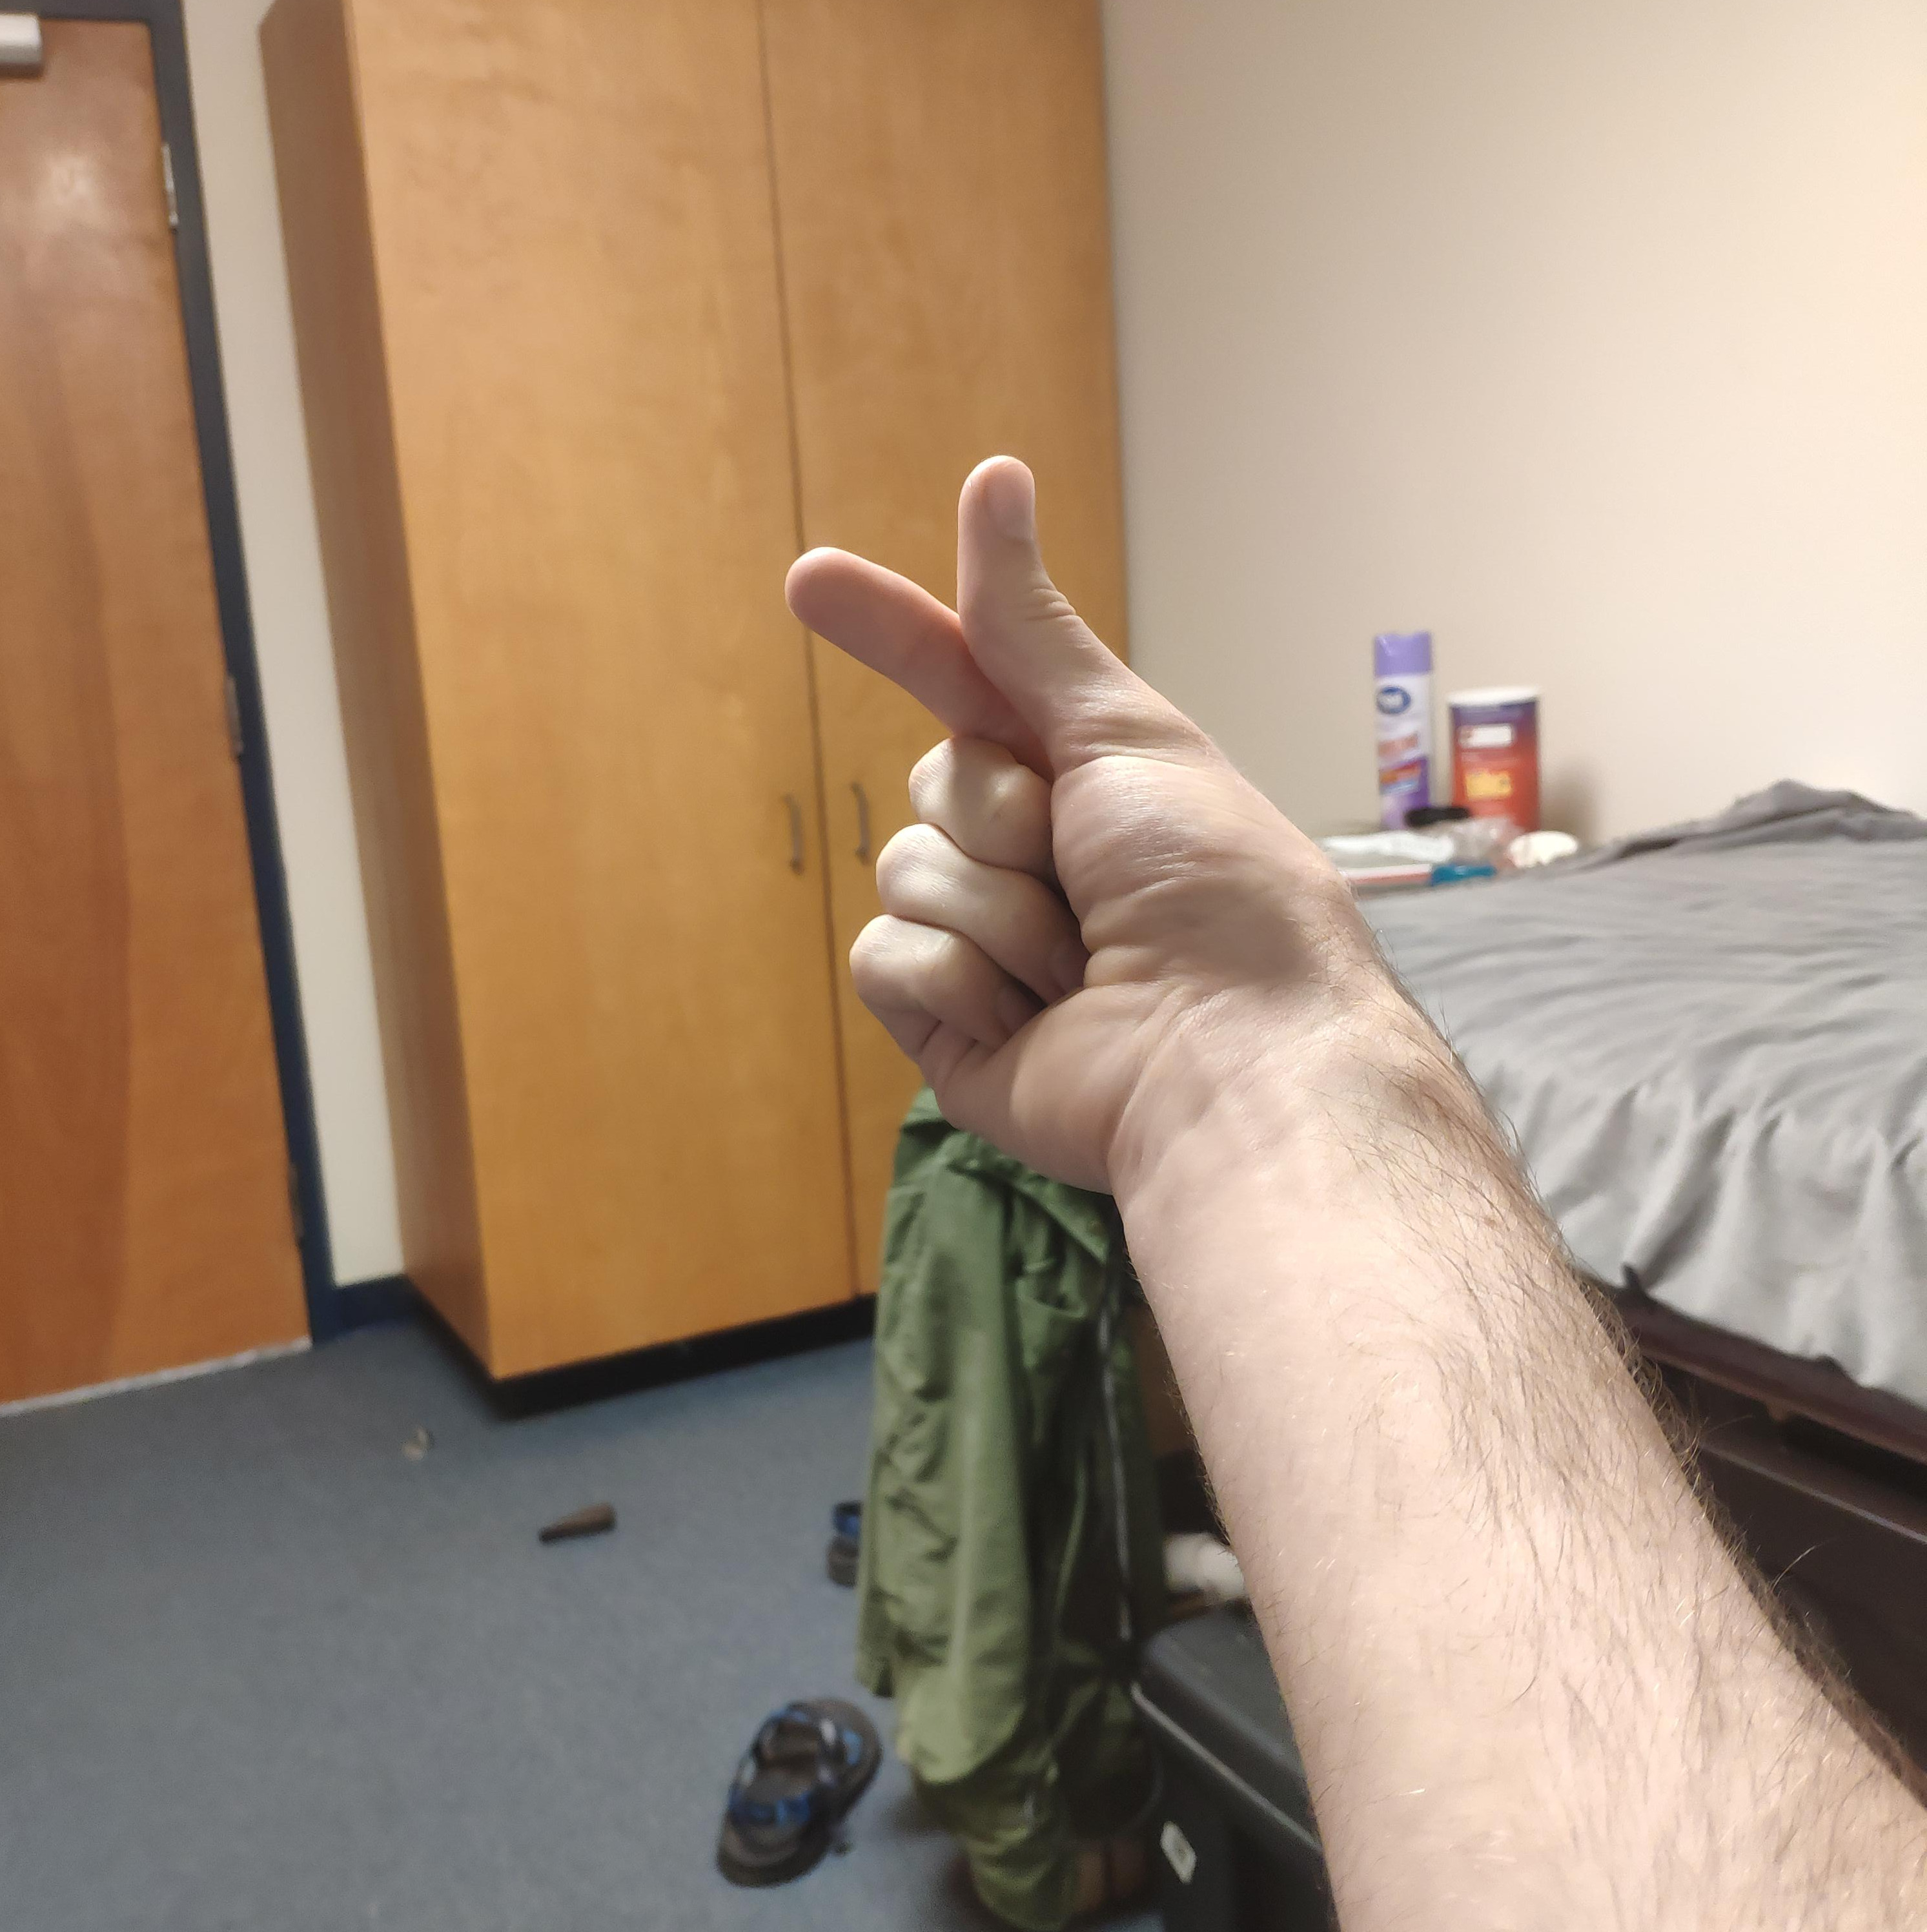heart gesture: (775, 441, 1096, 711)
